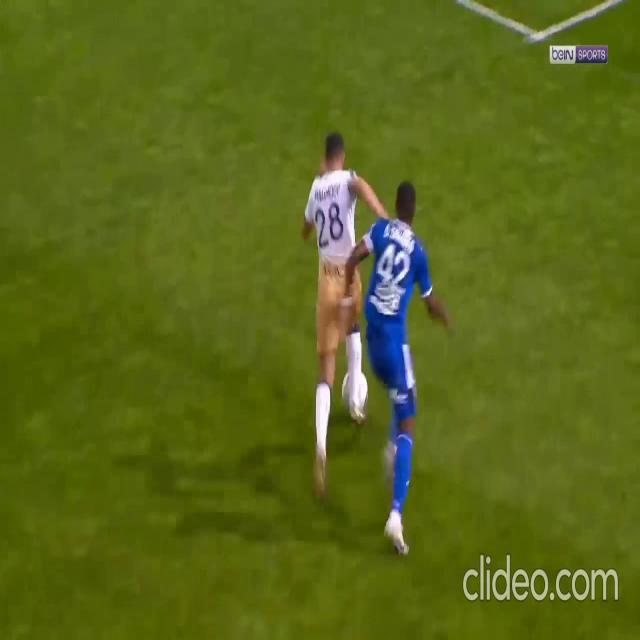player: (385, 498, 409, 554)
